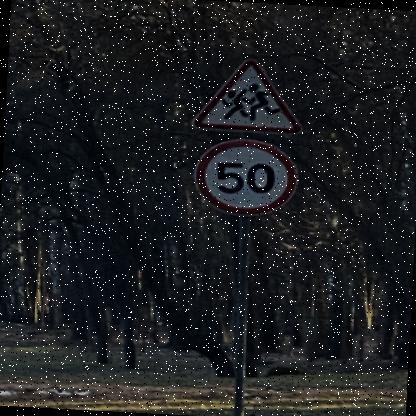speedlimit: (190, 136, 294, 216)
